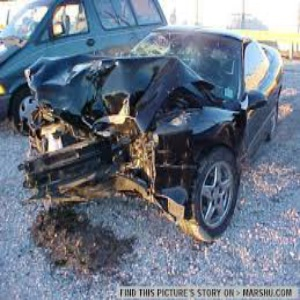bonnet: (27, 58, 205, 120)
bumper: (25, 138, 191, 213)
